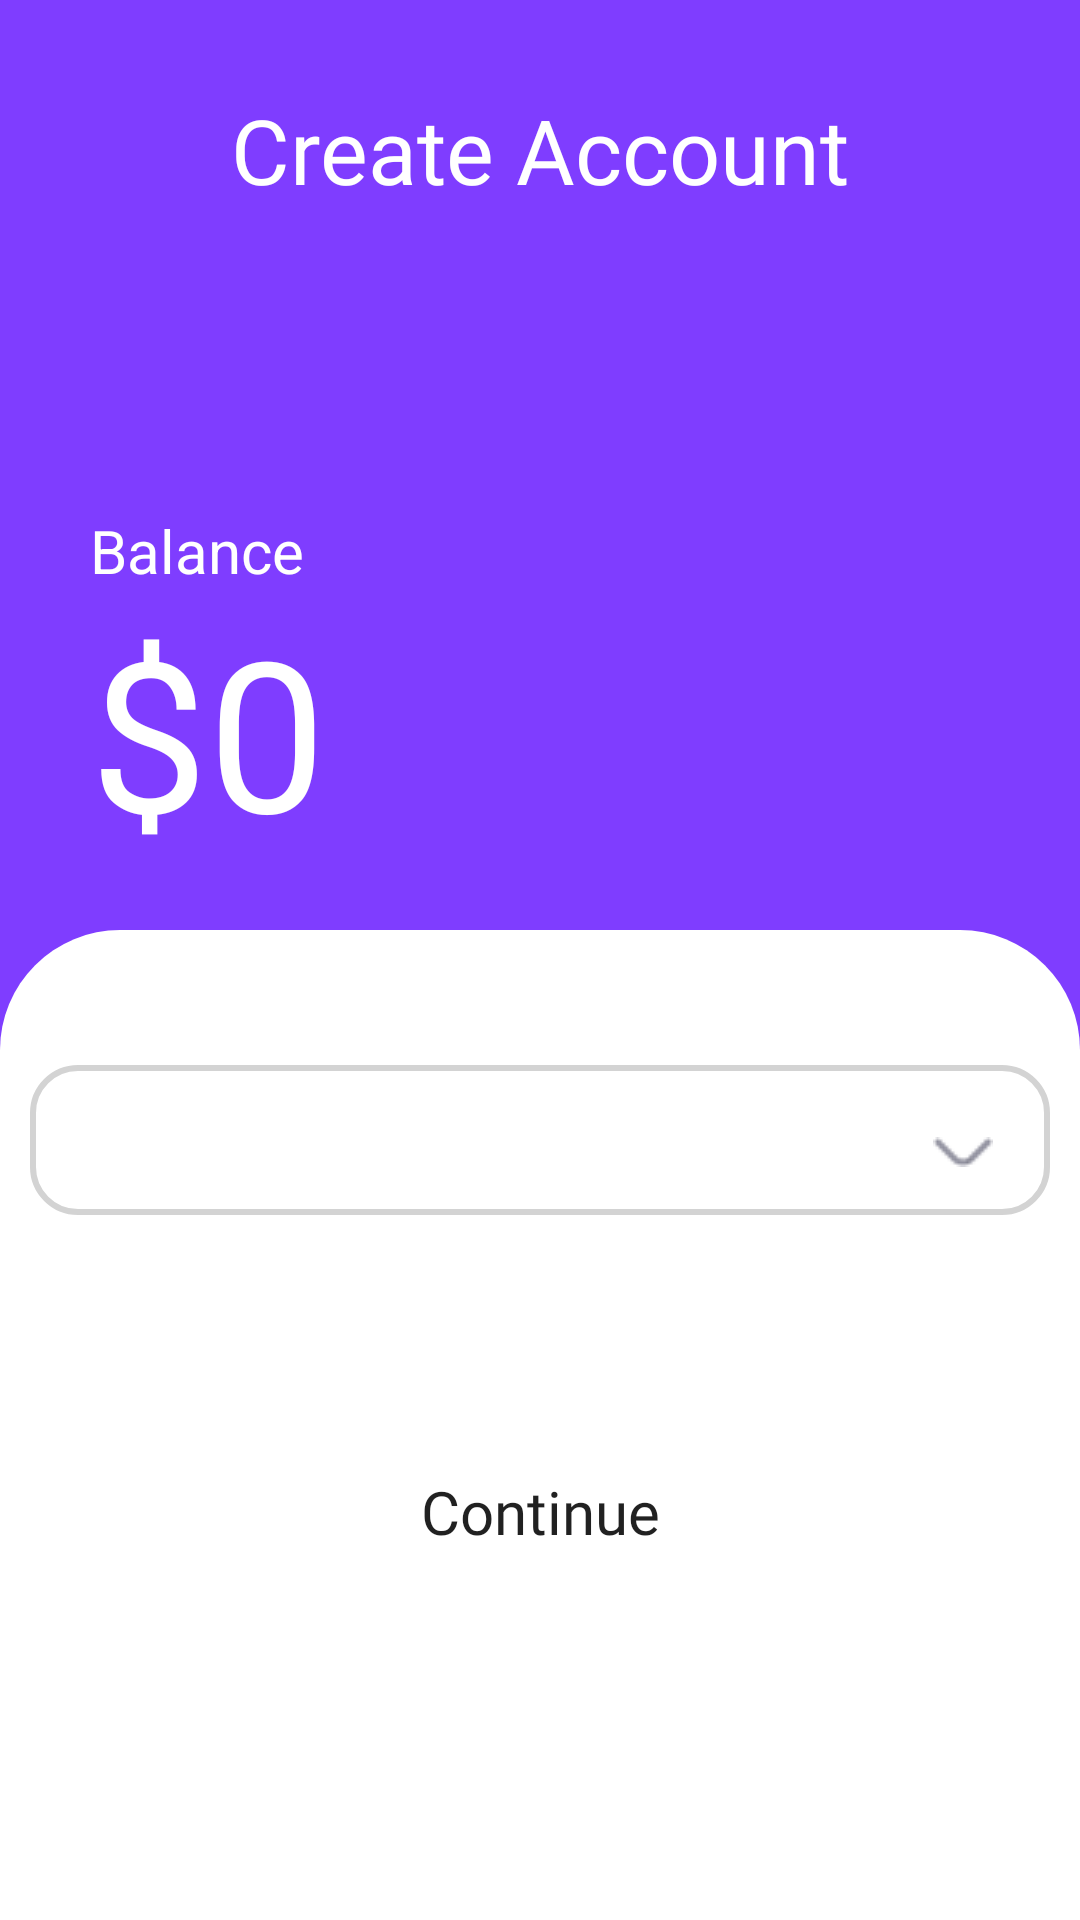

Icons on this 1080*1920 Android screen, each with its box as (left=x1, top=y1, right=x2, bottom=y2):
arrow down: (left=933, top=1137, right=993, bottom=1167)
